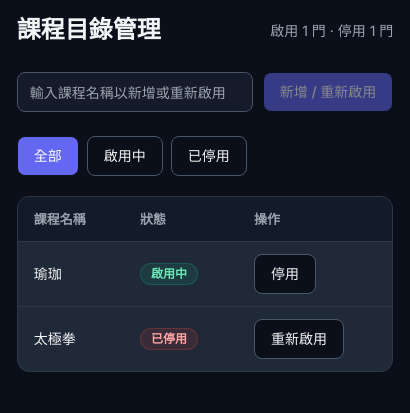
it: CourseManagementTab › clears stale error on successful reactivation
Check: the text "太極拳" is shown, box [18,306,124,371]
# Trigger an error first
Click the button "重新啟用". click: (299, 339)
box: [254,319,344,359]
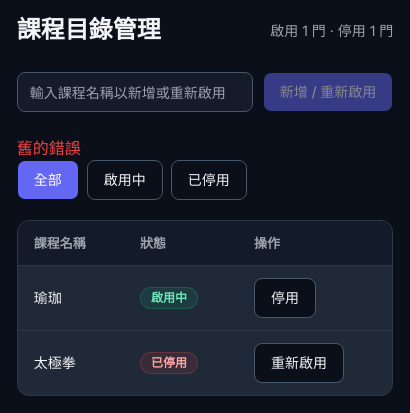
Check: the text "舊的錯誤" is shown, box [17,138,81,158]
Click the button "重新啟用". click: (299, 363)
box: [254,343,344,383]
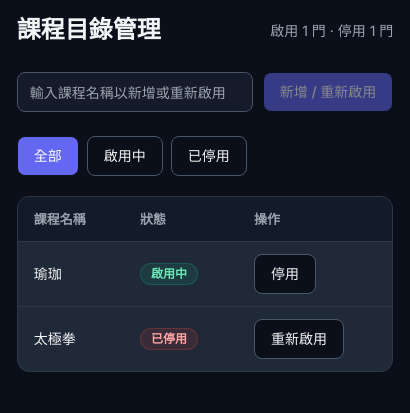
Check: the text "舊的錯誤" is gone
